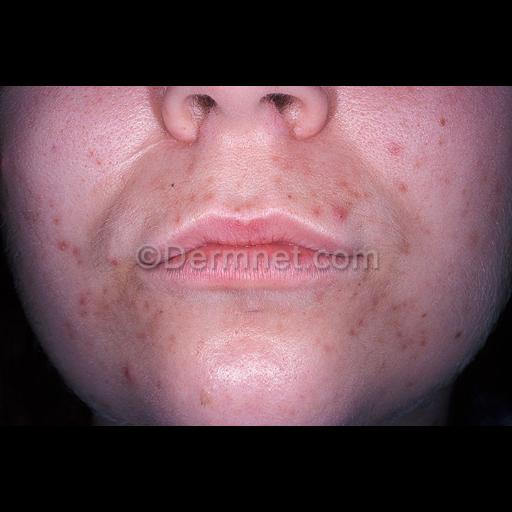Skin_Lesion: (119, 364, 143, 396), (197, 388, 219, 418), (244, 297, 266, 317), (394, 238, 412, 262), (394, 330, 410, 356), (349, 317, 367, 339), (386, 142, 402, 160), (418, 336, 434, 354), (396, 178, 410, 198), (62, 319, 74, 341), (22, 215, 48, 225), (169, 212, 185, 228), (88, 150, 104, 166), (60, 239, 74, 257), (74, 290, 88, 308), (200, 188, 218, 202), (463, 232, 477, 248), (333, 208, 347, 222), (338, 179, 352, 193), (367, 296, 381, 310), (283, 188, 295, 204), (111, 253, 123, 269), (492, 183, 504, 199), (234, 202, 248, 214), (140, 301, 154, 313), (452, 329, 464, 341), (310, 208, 320, 218), (438, 116, 446, 128), (418, 310, 426, 320), (137, 329, 145, 335)
